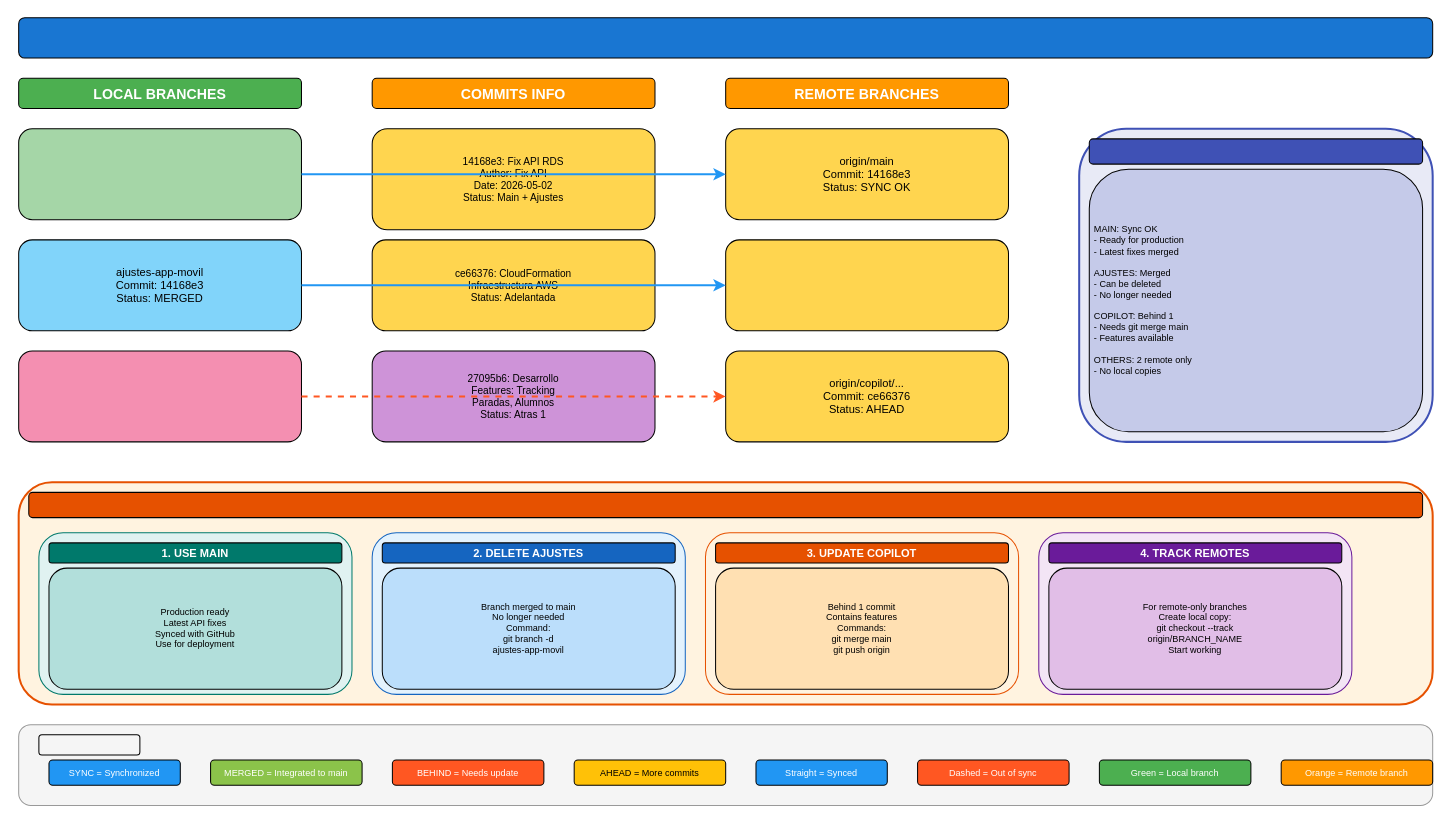
This 1450x823 diagram has some shape labels left out. Each missing label, with the centre of its shape:
copilot/desarrollo... Commit: 27095b6 Status: BEHIND 1: [159,396]
GIT REPOSITORY STRUCTURE - TFG-DAM: [725,37]
HEAD: main Commit: 14168e3 Status: SYNC: [159,174]
LEGEND: [89,744]
origin/ajustes-app Commit: 14168e3 Status: MERGED: [866,285]
RECOMMENDED ACTIONS: [725,504]
STATUS SUMMARY: [1255,151]
